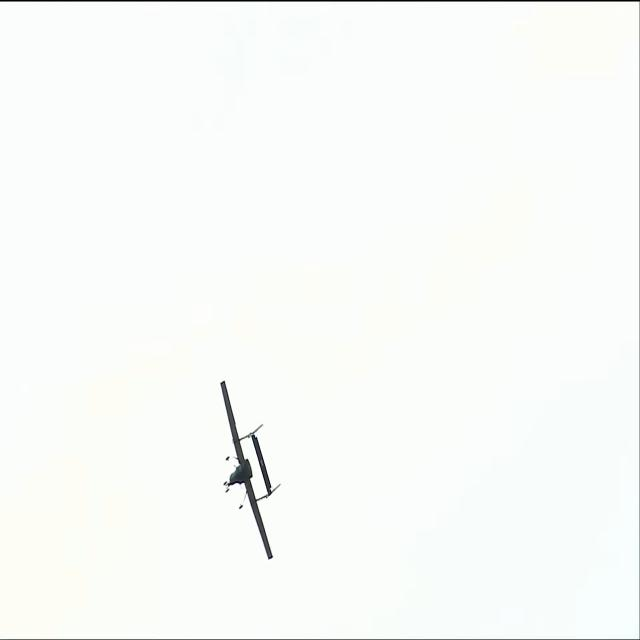iha: (219, 378, 281, 562)
